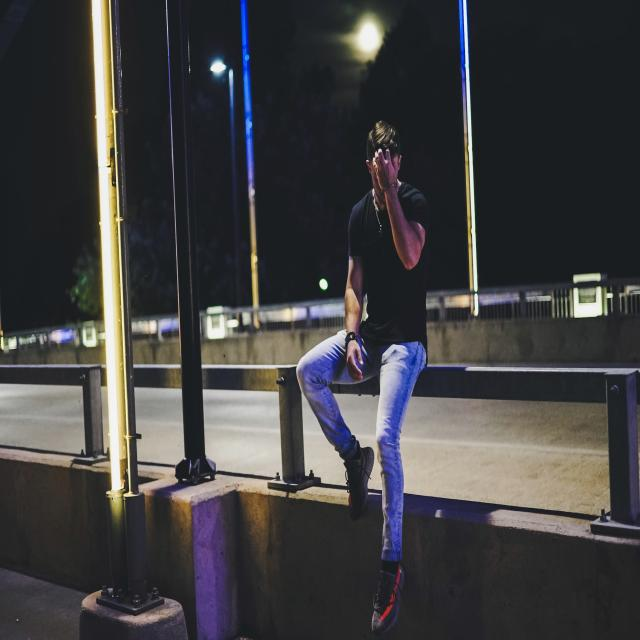adult: (296, 118, 424, 631)
